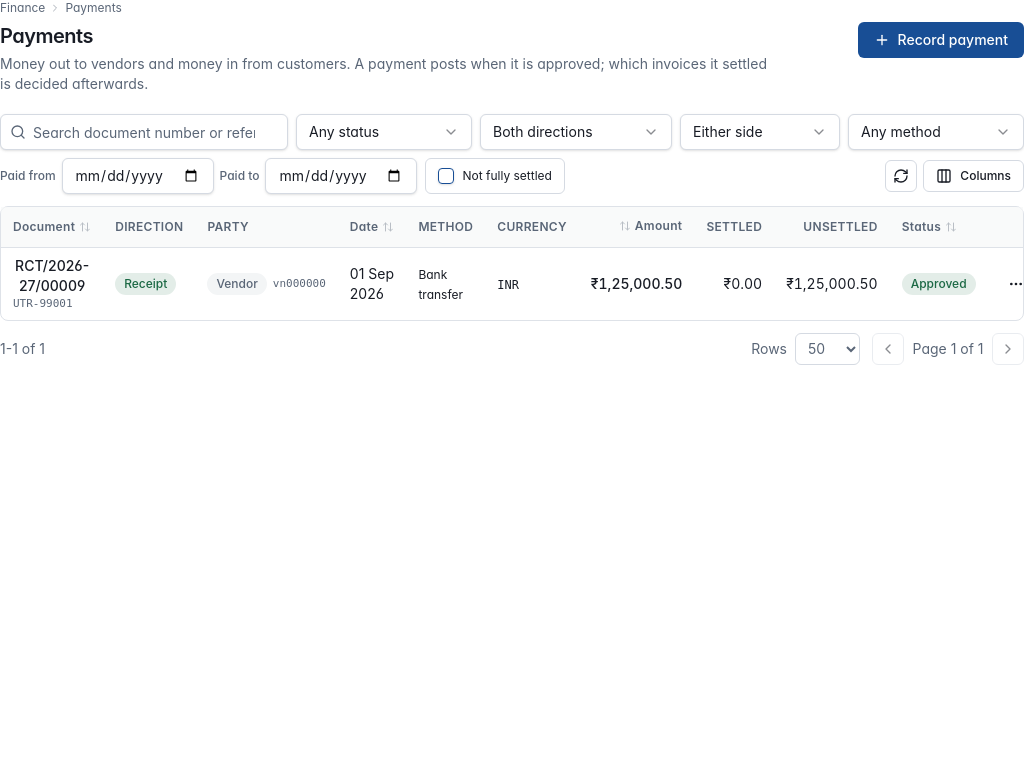
Test: a receipt settles customer invoices › offers receipt settlement from the payment reader
The image size is (1024, 768).
Step 1. Click the button "RCT/2026-27/00009" → point(52, 276), box x1=13 y1=256 x2=91 y2=296
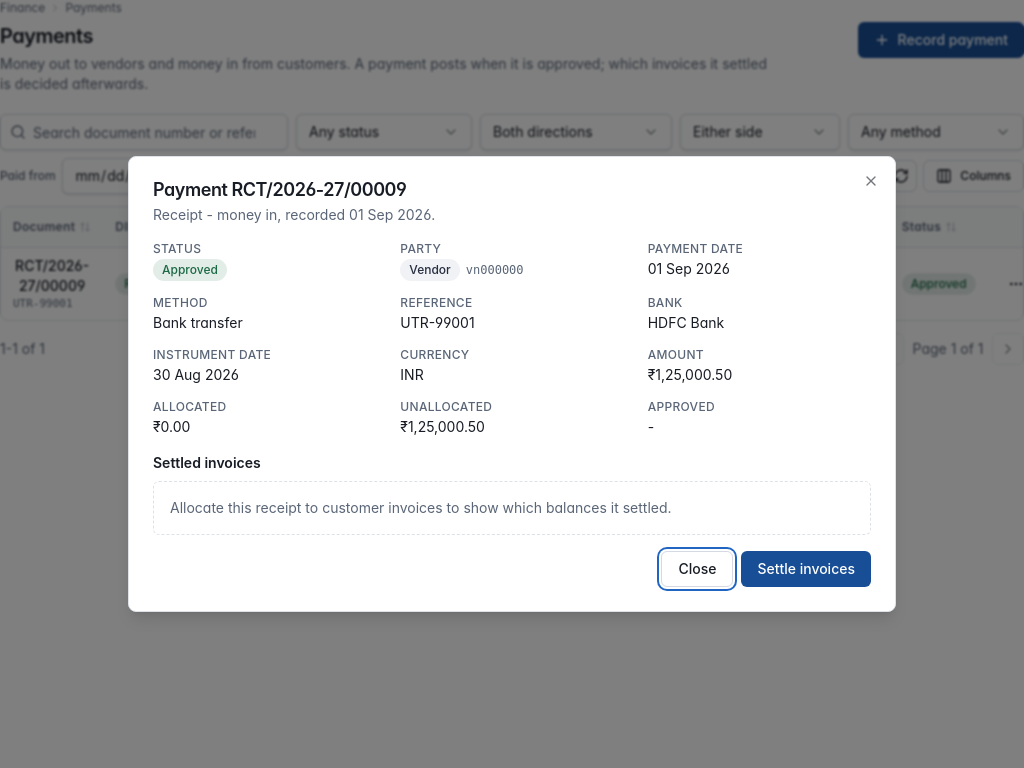
Check: the text "Unallocated" is shown, box x1=400 y1=399 x2=492 y2=414
Check: the button "Settle invoices" is shown, box x1=741 y1=551 x2=871 y2=587
